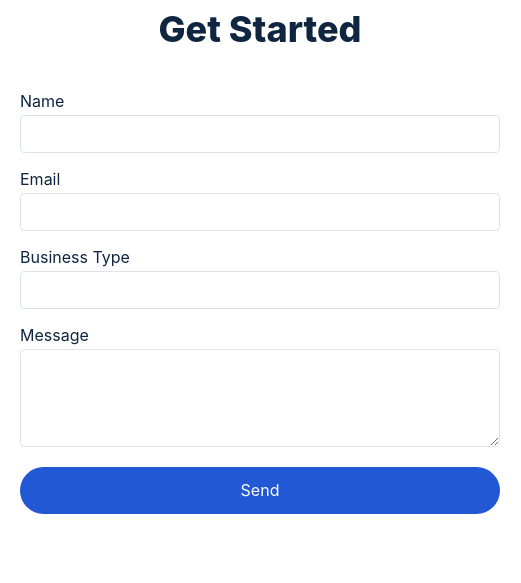
ContactForm › shows an error message when the submission fails
Type "Jamie Rivera" into the field labelled "Name" at [260, 134], box [20,115,500,153]
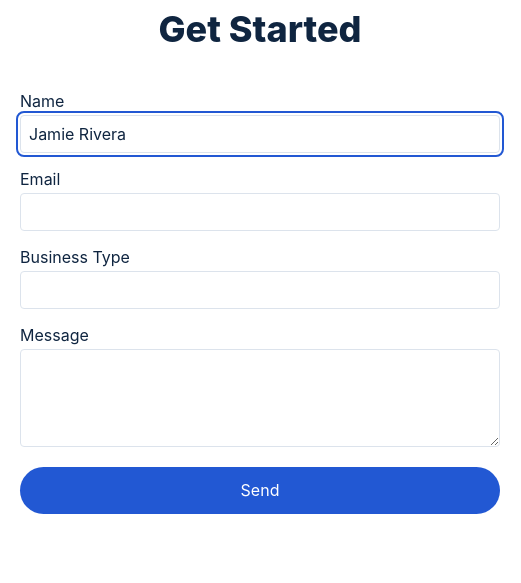
Type "jamie@example.com" into the field labelled "Email" at [260, 212], box [20,193,500,231]
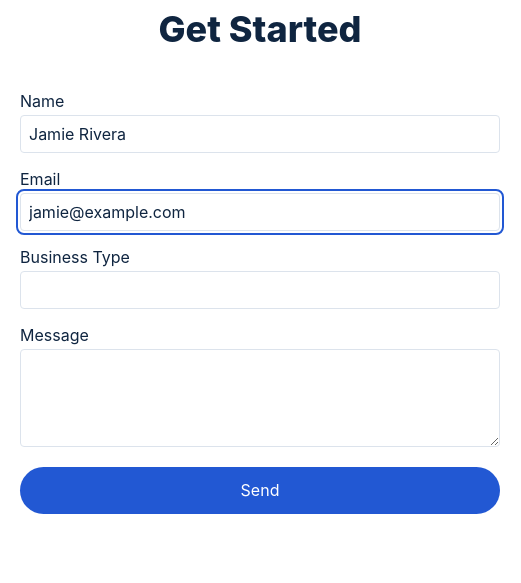
Type "Salon" into the field labelled "Business Type" at [260, 290], box [20,271,500,309]
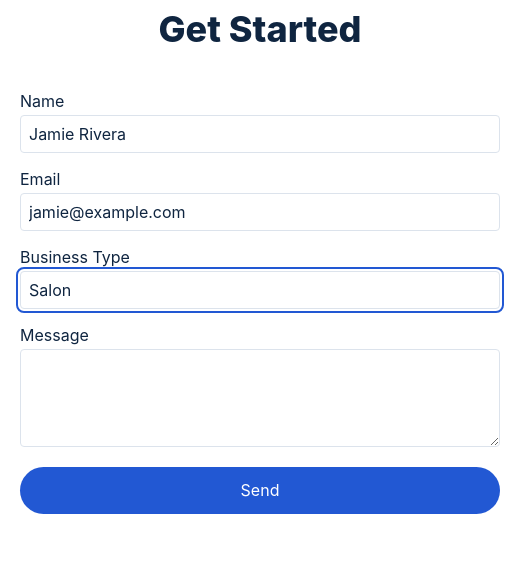
Type "I want to automate bookings." into the text box labelled "Message" at [260, 398], box [20,349,500,447]
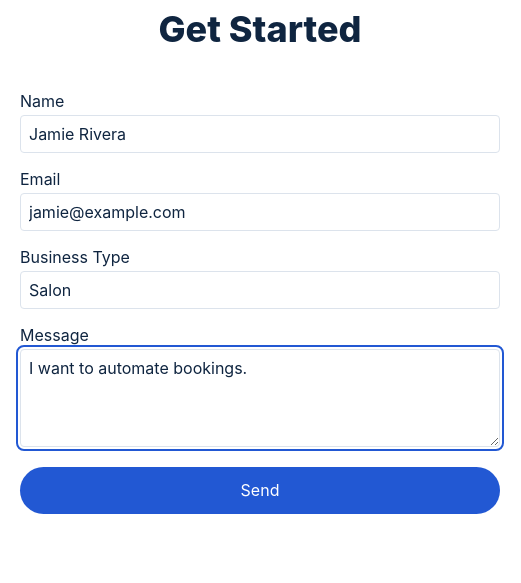
Click the button "Send" at [260, 490], box [20,467,500,514]
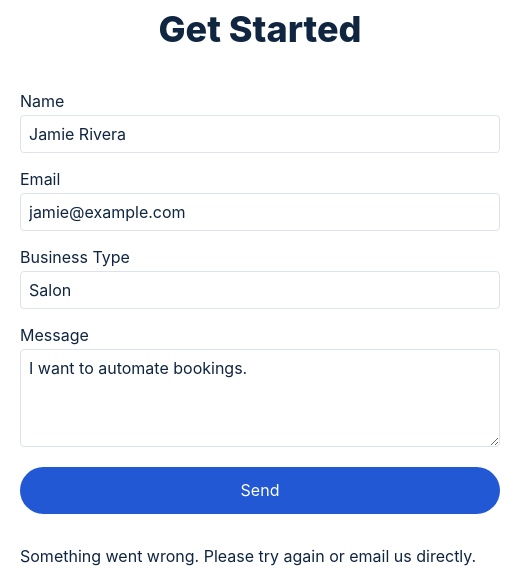
Result: the text "Something went wrong. Please try again or email us directly." is shown at [20,546,500,566]
